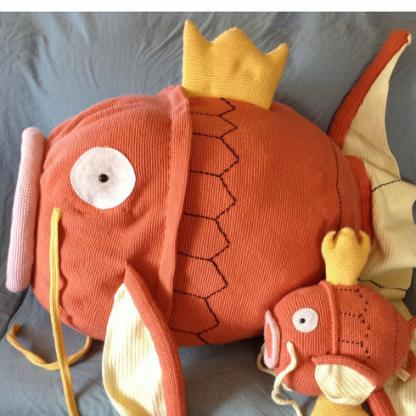Magikarp: (1, 54, 416, 322), (255, 286, 416, 414)
